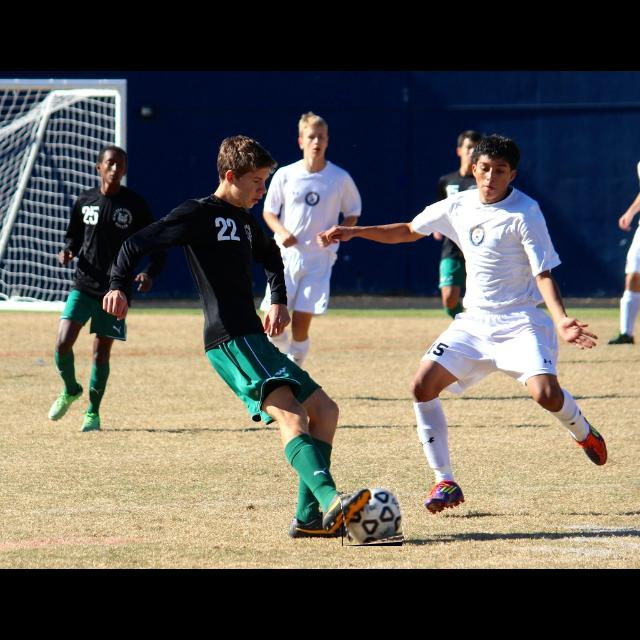Football: (342, 488, 402, 546)
